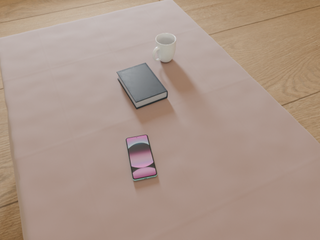book: (117, 63, 168, 109)
cup: (153, 33, 176, 62)
phone: (126, 135, 157, 181)
